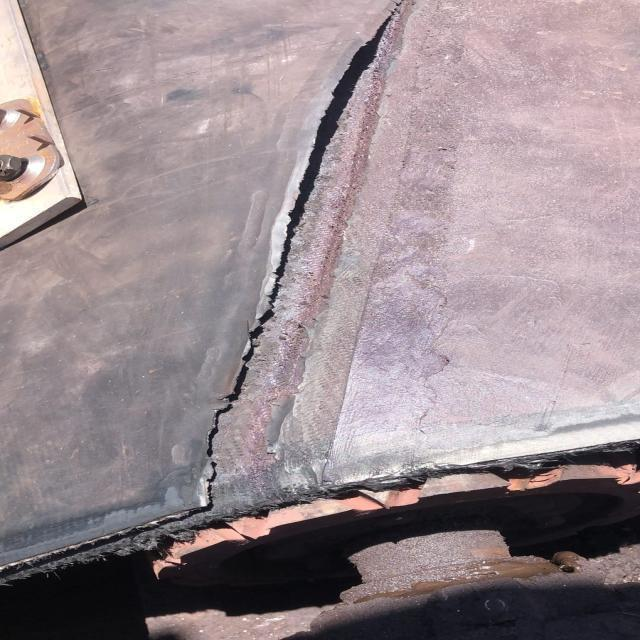Tear: (198, 0, 407, 513)
